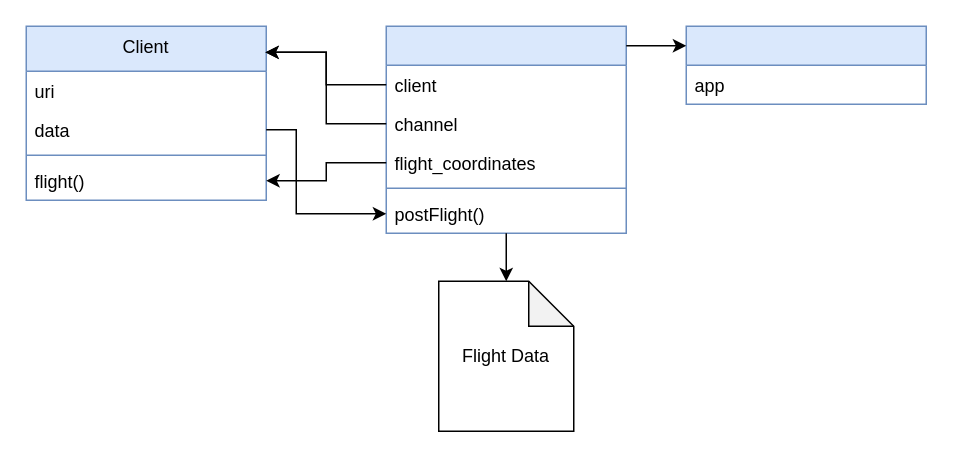
This 953x458 diagram has some shape labels left out. The shapes that lost their labels are listed below. From the top down, each one's box as (x1, y1, x2, y2) in pixels, then its label:
(685, 25, 926, 104): main
(385, 25, 626, 233): GUI
